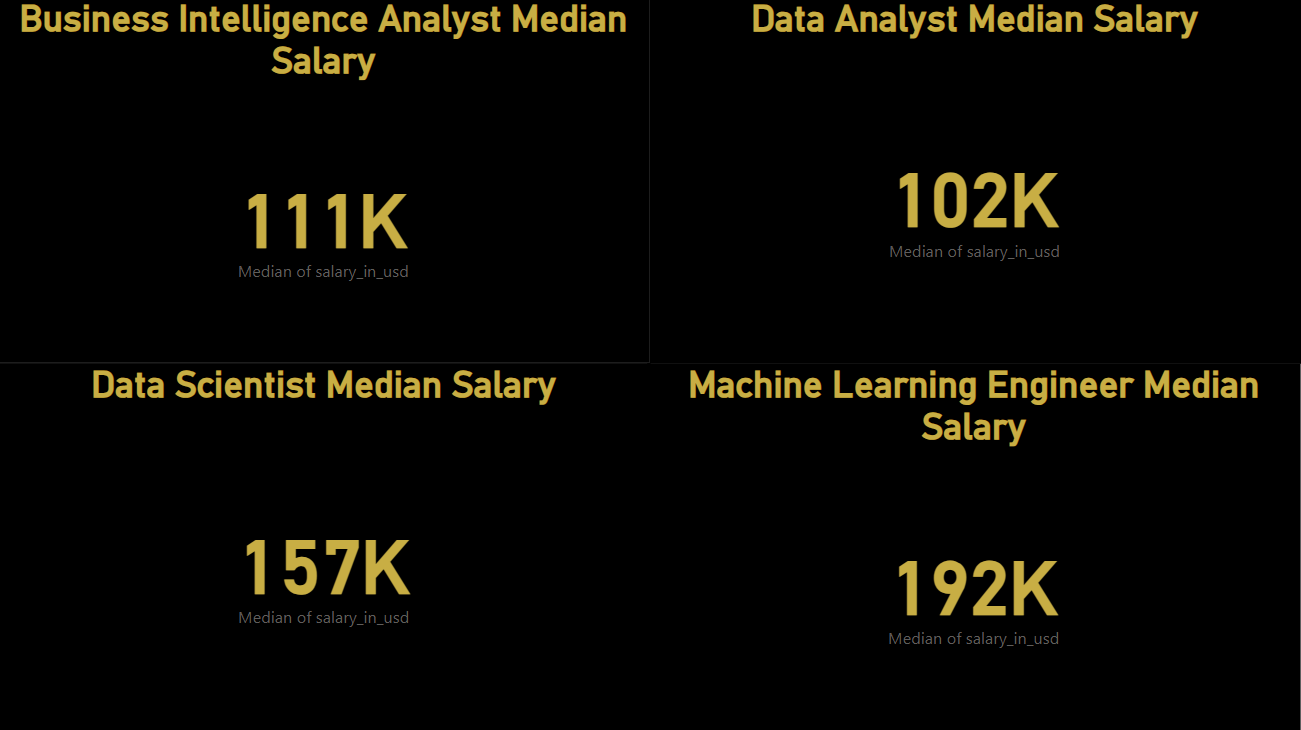

The page's visual inventory and layout, read from the dashboard file:
{"tool":"powerbi","page":{"name":"Median Data Salary Card","canvas":[1280,720],"ordinal":0},"visuals":[{"type":"card","title":"Data Analyst Median Salary","fields":{"Values":["Median(us_fulltime_data_jobs.salary_in_usd)"]},"box":[639.4,0,641,359.6],"z":0},{"type":"card","title":"Business Intelligence Analyst Median Salary","fields":{"Values":["Median(us_fulltime_data_jobs.salary_in_usd)"]},"box":[0,0,641,359.6],"z":1000},{"type":"card","title":"Data Scientist Median Salary","fields":{"Values":["Median(us_fulltime_data_jobs.salary_in_usd)"]},"box":[0,359.5,641.7,360.7],"z":2000},{"type":"card","title":"Machine Learning Engineer Median Salary","fields":{"Values":["Median(us_fulltime_data_jobs.salary_in_usd)"]},"box":[638,359.5,641.7,360.7],"z":3000}]}

Visuals, with their boxes in screenshot pixels (x1, y1, x2, y2), scaled from the page's 1280x720 canvas onto the 1301x730 screenshot:
"Data Analyst Median Salary" card: region(650, 0, 1300, 365)
"Business Intelligence Analyst Median Salary" card: region(0, 0, 652, 365)
"Data Scientist Median Salary" card: region(0, 364, 652, 729)
"Machine Learning Engineer Median Salary" card: region(648, 364, 1300, 729)
